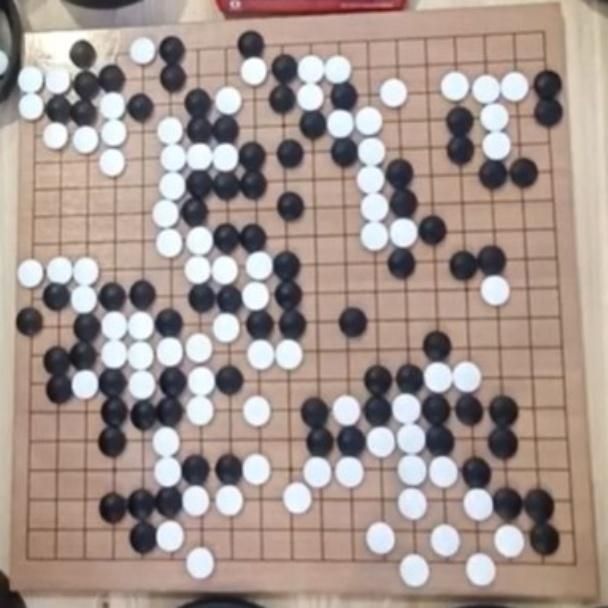corners: (16, 543, 44, 571), (27, 40, 49, 69), (533, 17, 553, 47), (565, 549, 585, 579)
